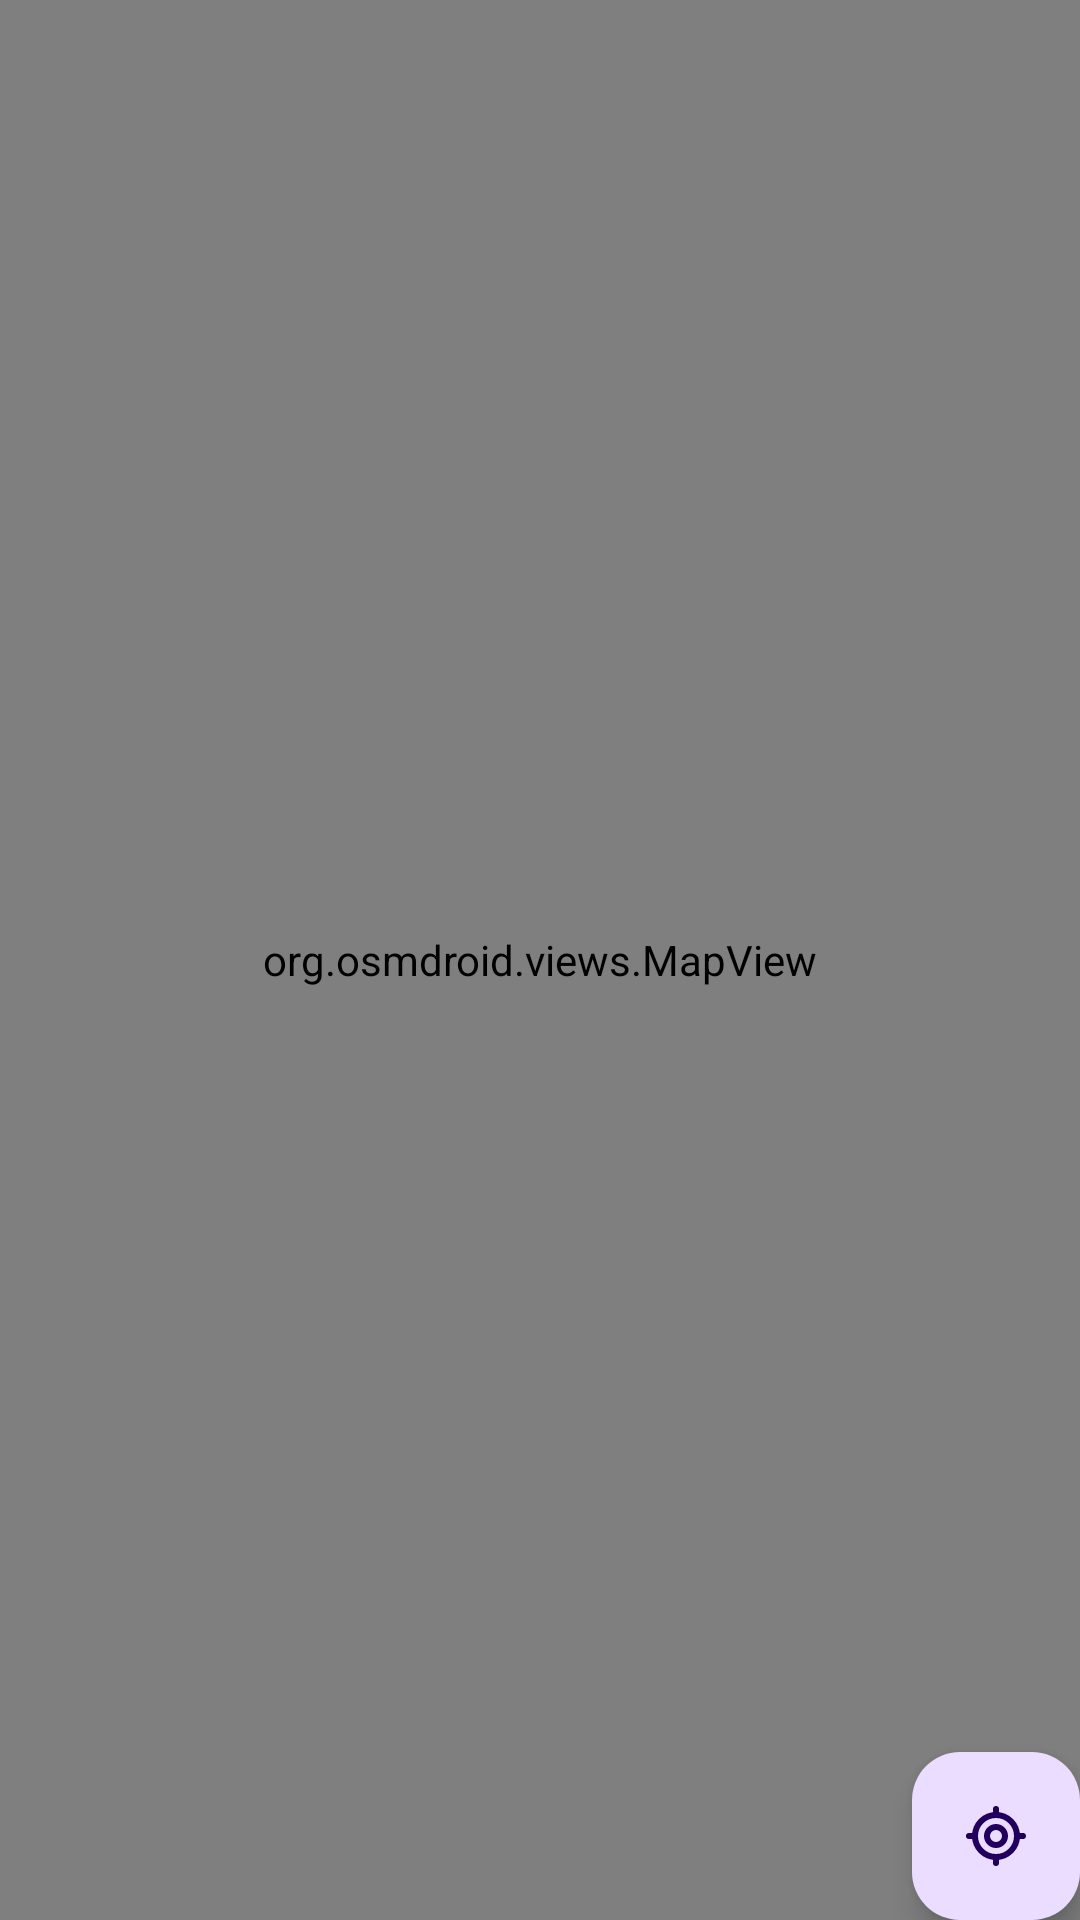

Icon click points for this 1080×1920 phone screenshot, format (x,y):
location crosshairs: (996,1836)
